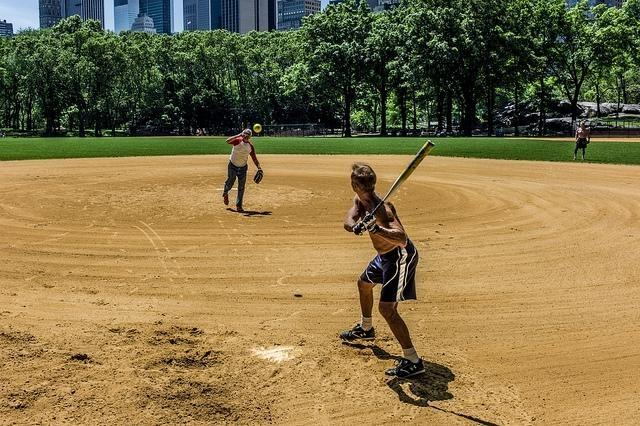car: (621, 107, 640, 116)
